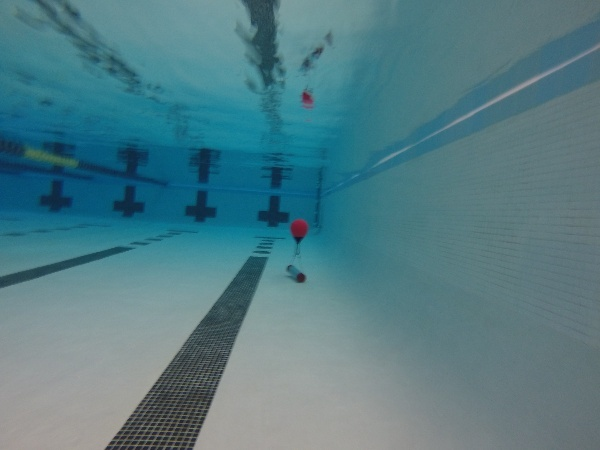buoy_red: (288, 218, 309, 246)
